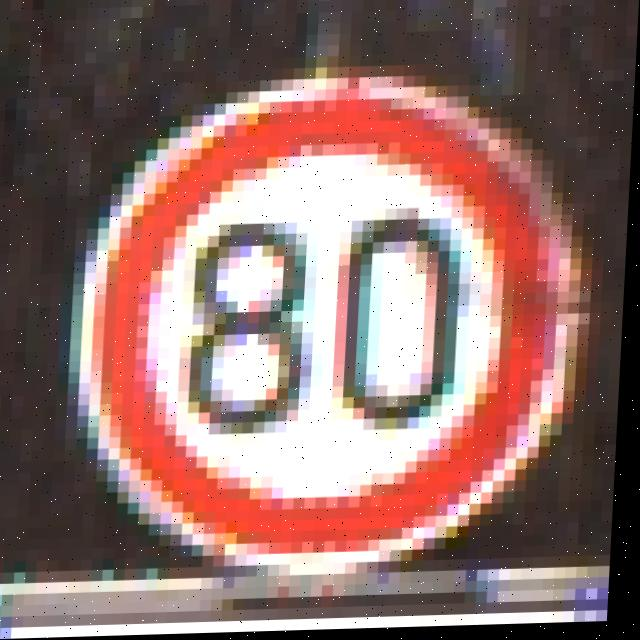speed_limit_80: (81, 76, 580, 586)
